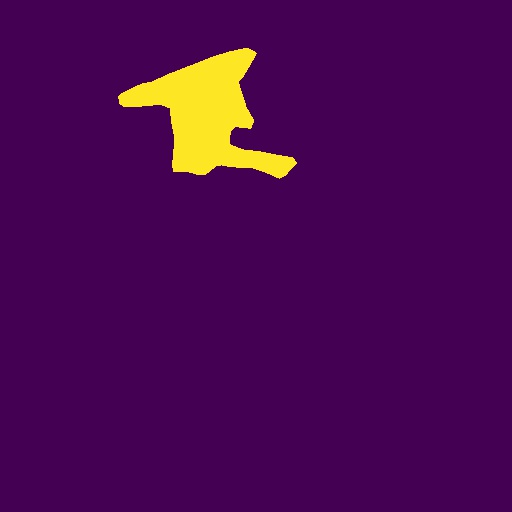Gliomia_tumour: (118, 48, 297, 179)
